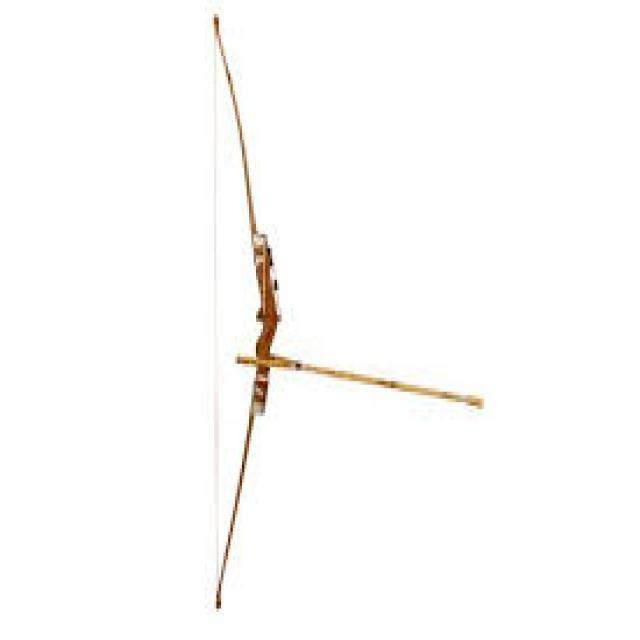X-Bow: (204, 1, 285, 639)
